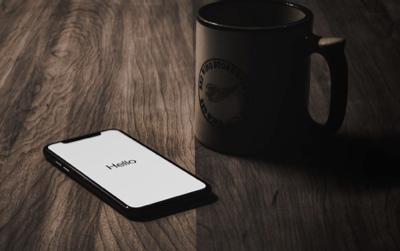Mobile Phone: (42, 127, 214, 221)
